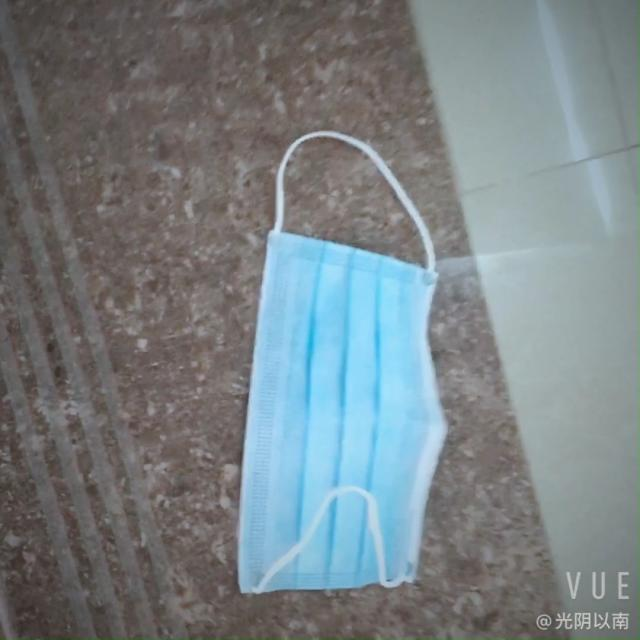face mask: (214, 218, 456, 600)
